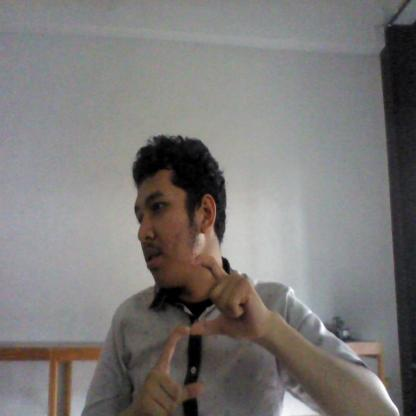S: (135, 241, 273, 415)
